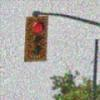traffic lights: (25, 16, 48, 61)
